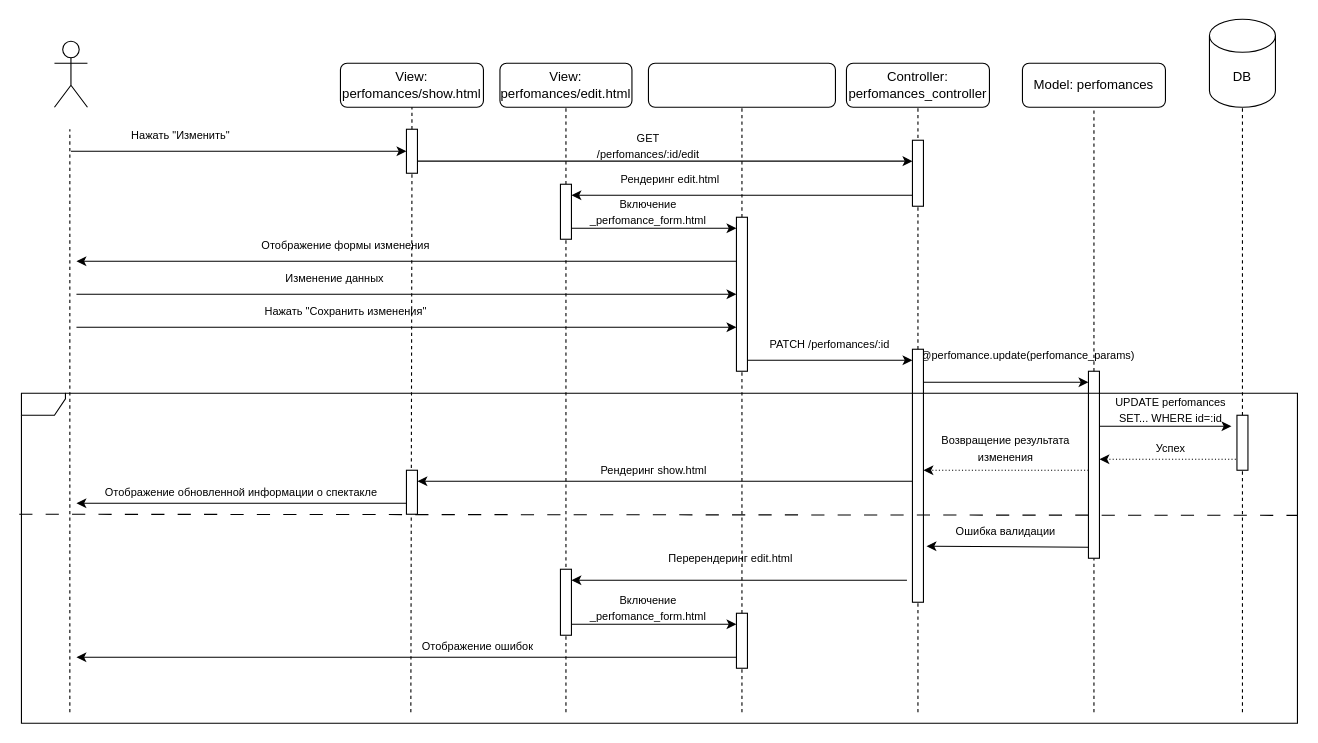
Image size: 1318x743. Some labels were removed from this diagram. Each missing label, with the centre of its shape:
alt: (x=658, y=557)
User: (x=70, y=73)
View: perfomances /_perfomance_form.html: (x=741, y=84)
